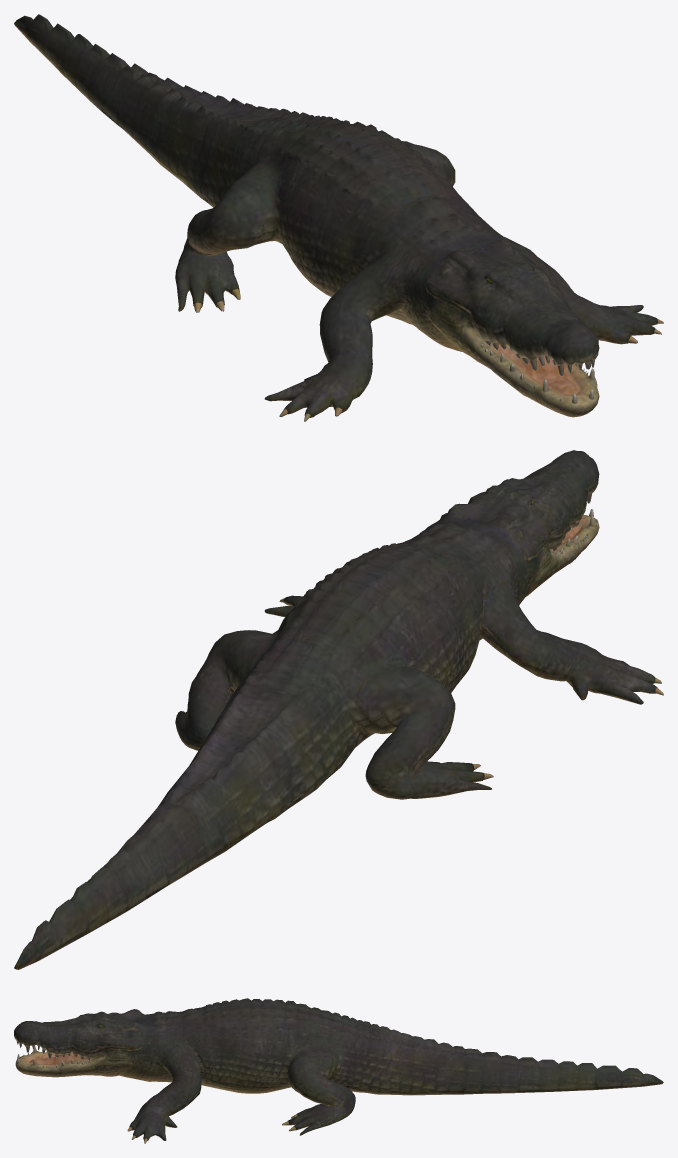
File: crocodile.glb
The picture shows the model from 3 angles, top to bottom: view 1: azimuth 30°, elevation 25°; view 2: azimuth 150°, elevation 25°; view 3: azimuth 270°, elevation 25°; orthographic projection. The views are drawn at different scales.
Visible parts, largest first — view 1: Crocodile_Crocodile_0; view 2: Crocodile_Crocodile_0; view 3: Crocodile_Crocodile_0.
Boxes of the visible parts, x1=… form: Crocodile_Crocodile_0: x1=14, y1=14, x2=663, y2=421; Crocodile_Crocodile_0: x1=14, y1=450, x2=663, y2=969; Crocodile_Crocodile_0: x1=14, y1=998, x2=663, y2=1143.
Bounding box in the file's own units: 29.13 × 11.33 × 75.12.
Materials: 1 (1 with a texture image).
